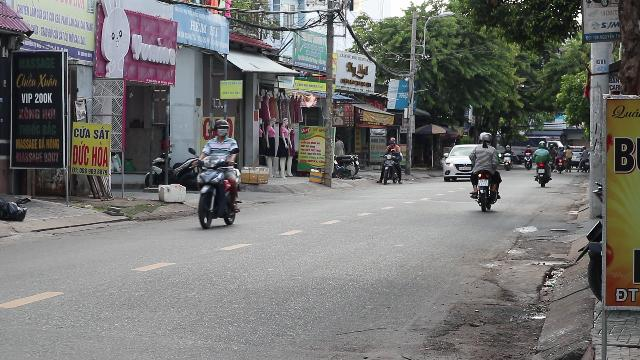helmet: (214, 119, 230, 137)
motorcyclist: (192, 118, 244, 228)
